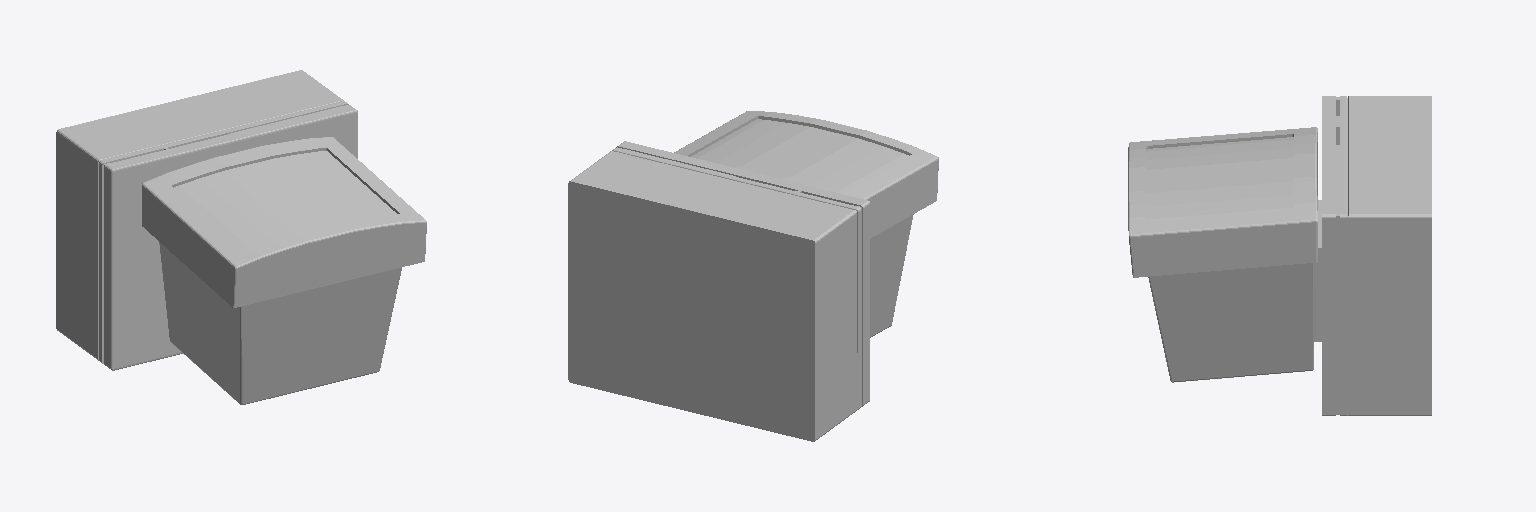
Rendered from Computers1.obj.
3 renders of one model, left to right at view 1: azimuth 30°, elevation 25°; view 2: azimuth 150°, elevation 25°; view 3: azimuth 270°, elevation 25°, orthographic.
Parts seen in each view (by area): view 1: smd/computer_monitor01.smd; view 2: smd/computer_monitor01.smd; view 3: smd/computer_monitor01.smd.
Part boxes in pixels (x1,y1,x2,y2): smd/computer_monitor01.smd: (56,70,426,404); smd/computer_monitor01.smd: (568,111,938,441); smd/computer_monitor01.smd: (1128,96,1431,415).
Bounding box in the file's own units: 0.3931 × 0.3063 × 0.4194.